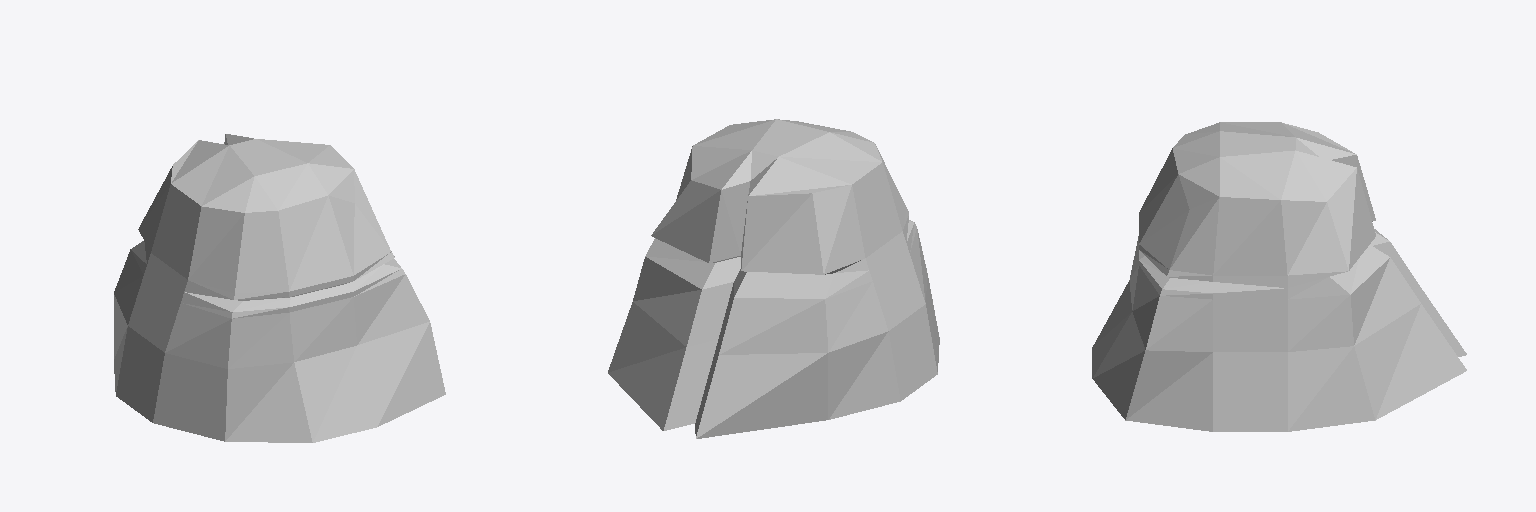
Rendered from Rock1.obj.
3 renders of one model, left to right at view 1: azimuth 30°, elevation 25°; view 2: azimuth 150°, elevation 25°; view 3: azimuth 270°, elevation 25°, orthographic.
Parts seen in each view (by area): view 1: Rock1; view 2: Rock1; view 3: Rock1.
Boxes of the visible parts, x1,y1,x2,y2 form: Rock1: [114, 134, 445, 442]; Rock1: [608, 119, 939, 438]; Rock1: [1092, 122, 1466, 431].
Size of the model in its own units: 1.42 by 1.08 by 1.68.